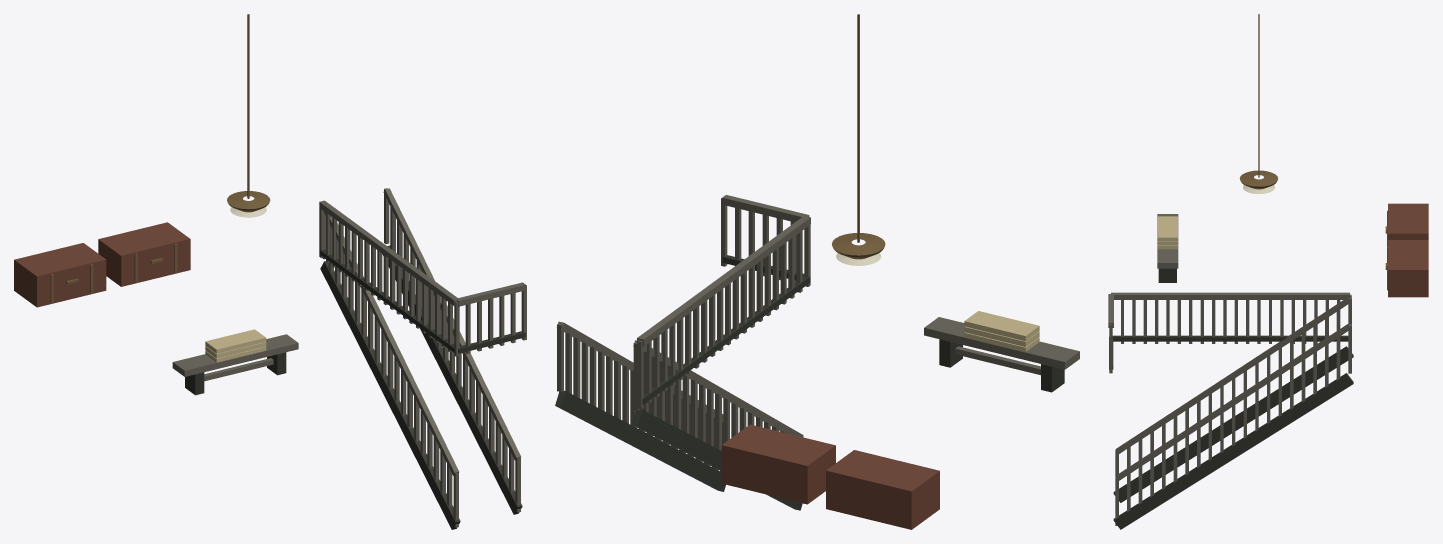
File: upstairs_lanterninn.glb
The picture shows the model from 3 angles, left to right: view 1: azimuth 30°, elevation 25°; view 2: azimuth 150°, elevation 25°; view 3: azimuth 270°, elevation 25°; orthographic projection. The views are drawn at different scales.
Parts seen in each view (by area): view 1: upstairs_lanterninn; view 2: upstairs_lanterninn; view 3: upstairs_lanterninn.
Boxes of the visible parts, x1,y1,x2,y2 form: upstairs_lanterninn: (14, 14, 526, 529); upstairs_lanterninn: (555, 14, 1079, 529); upstairs_lanterninn: (1108, 14, 1428, 529).
Bounding box in the file's own units: 6.71 × 9.43 × 6.32.
